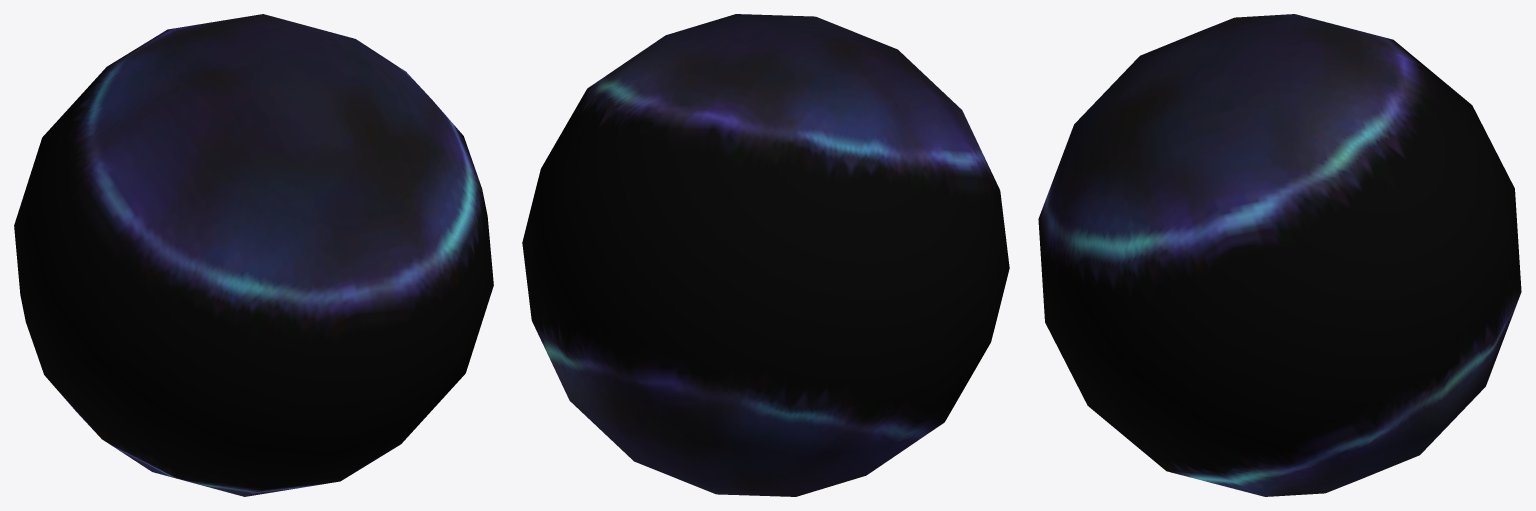
File: EnvironmentShieldAnimated.fbx
3 renders of one model, left to right at view 1: azimuth 30°, elevation 25°; view 2: azimuth 150°, elevation 25°; view 3: azimuth 270°, elevation 25°, orthographic.
Visible parts, largest first — view 1: GEOSPHERE03; view 2: GEOSPHERE03; view 3: GEOSPHERE03.
Boxes of the visible parts, box(x1,y1,x2,y2) form: GEOSPHERE03: box(14, 14, 493, 496); GEOSPHERE03: box(522, 14, 1009, 496); GEOSPHERE03: box(1038, 14, 1521, 496).
Bounding box in the file's own units: 197 × 198 × 198.
1 material, 1 textured.
